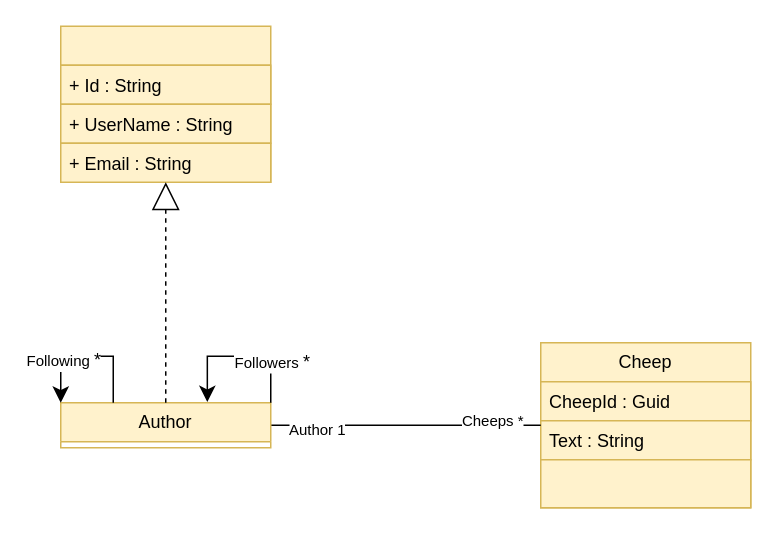
Some shapes in this 777 by 539 pixel diagram are drawn without their labels. Here are the shapes that lost their labels. From the top down, the box of each, then its label:
(59, 25, 271, 182): IdentityUser
(539, 458, 751, 508): TimeStamp: Date
